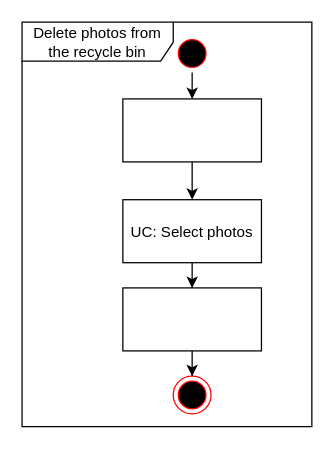
The diagram is 334 pixels wide and 449 high, and some of its shapes have lost their labels. The shapes that lost their labels are listed below. From the top down, each one's centre as x and y in pixels, then its label:
the point at 191,130: UC: Open recycle bin
the point at 191,319: Permanently delete photos
